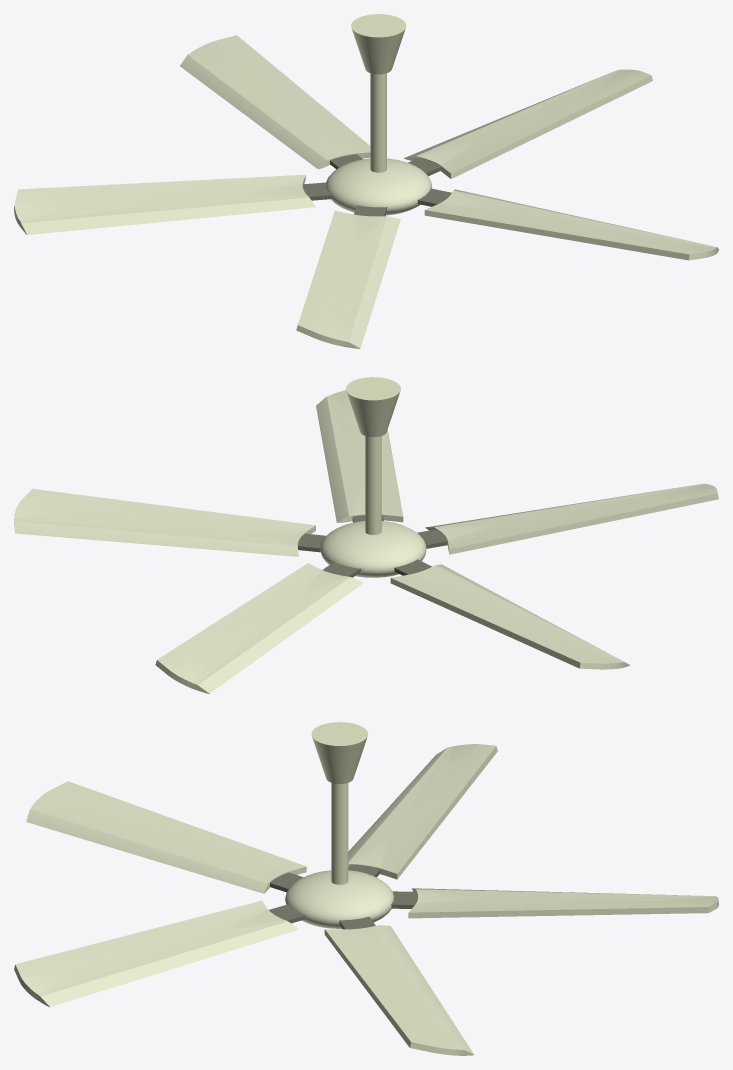
The model's file is Fan.fbx.
3 renders of one model, top to bottom at view 1: azimuth 30°, elevation 25°; view 2: azimuth 150°, elevation 25°; view 3: azimuth 270°, elevation 25°, orthographic. The views are drawn at different scales.
Visible parts, largest first — view 1: Sphere, Cylinder.002; view 2: Sphere, Cylinder.002; view 3: Sphere, Cylinder.002.
Part boxes in pixels (x1,y1,x2,y2): Sphere: [14, 35, 718, 348]; Cylinder.002: [351, 14, 406, 172]; Sphere: [14, 390, 718, 693]; Cylinder.002: [346, 377, 400, 534]; Sphere: [14, 744, 718, 1055]; Cylinder.002: [311, 722, 368, 884].
Size of the model in its own units: 429 by 120 by 416.
